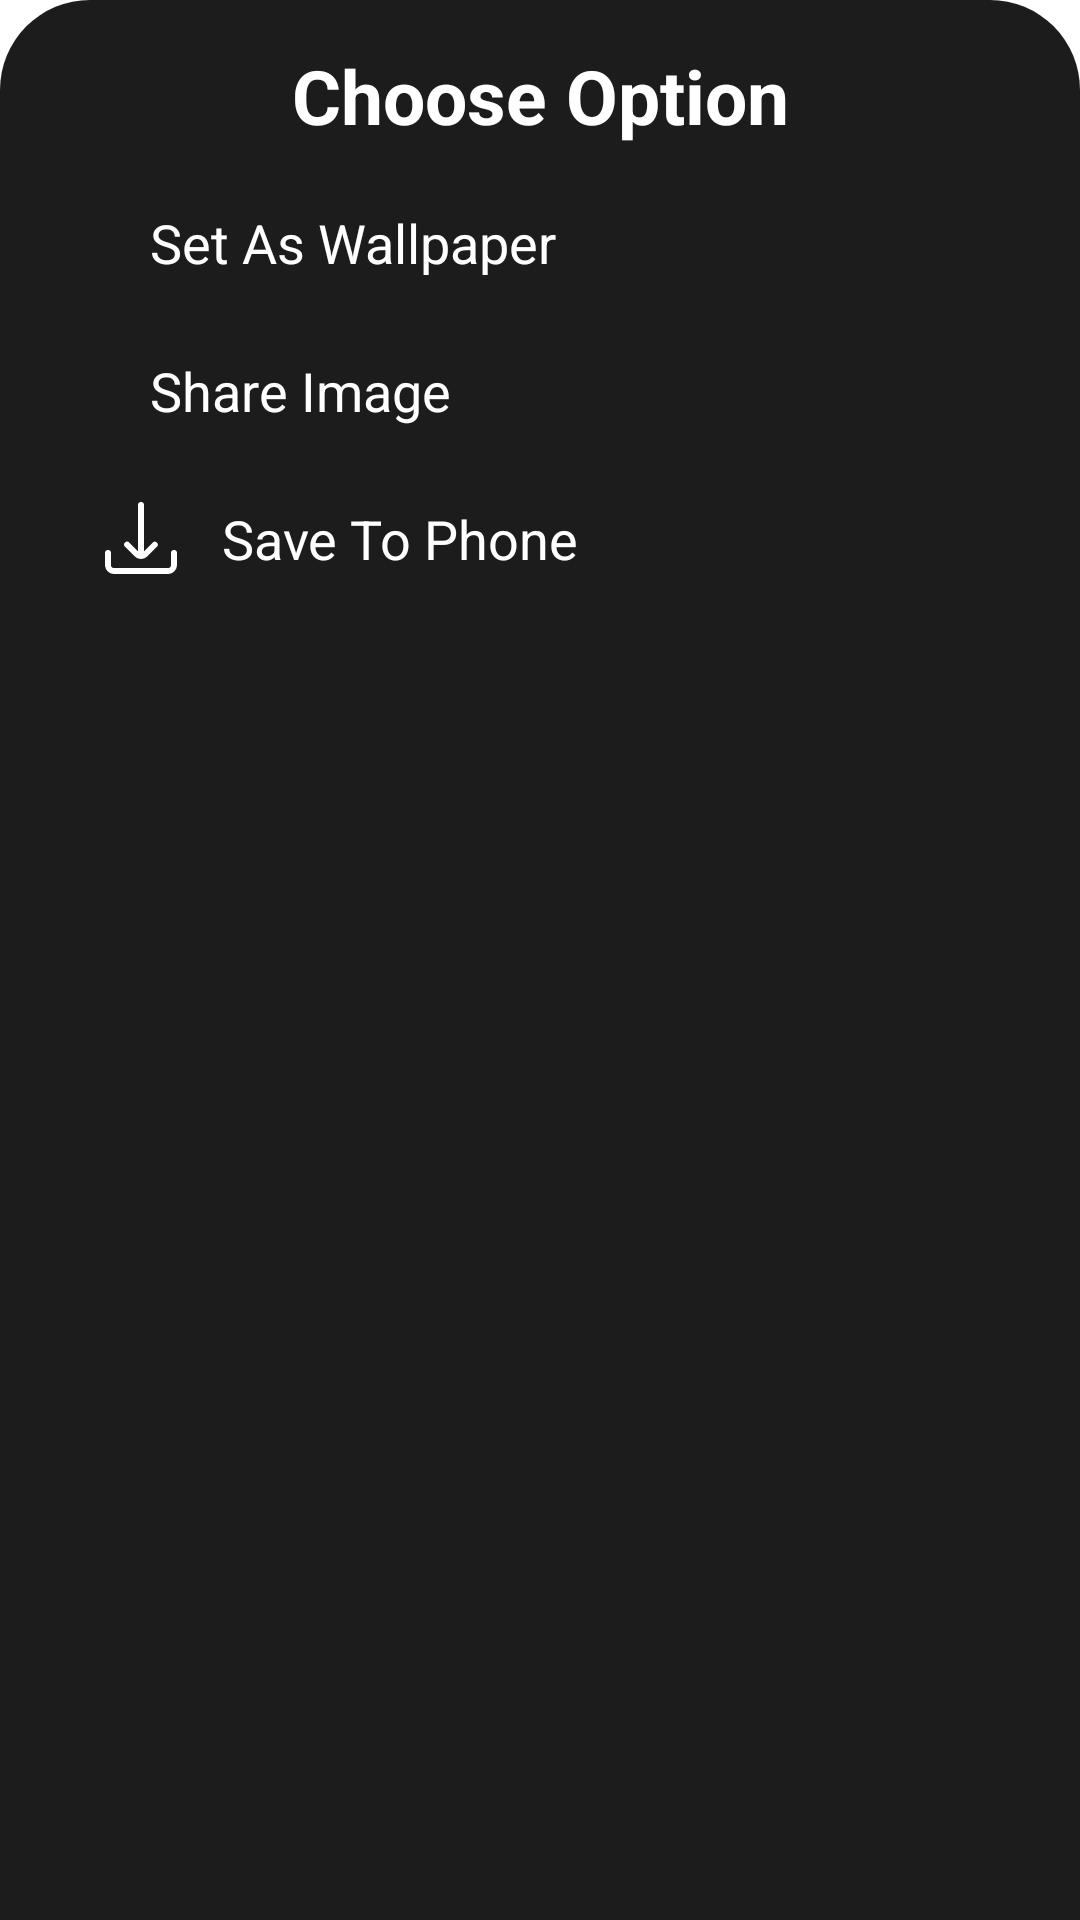

Where icons sit on this 1080 × 1920 app screen, as (x1, y1, x2, y2):
download: (105, 502, 177, 574)
